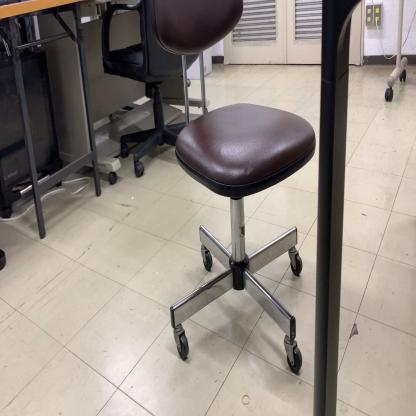chair: (150, 0, 317, 377), (100, 0, 194, 178)
